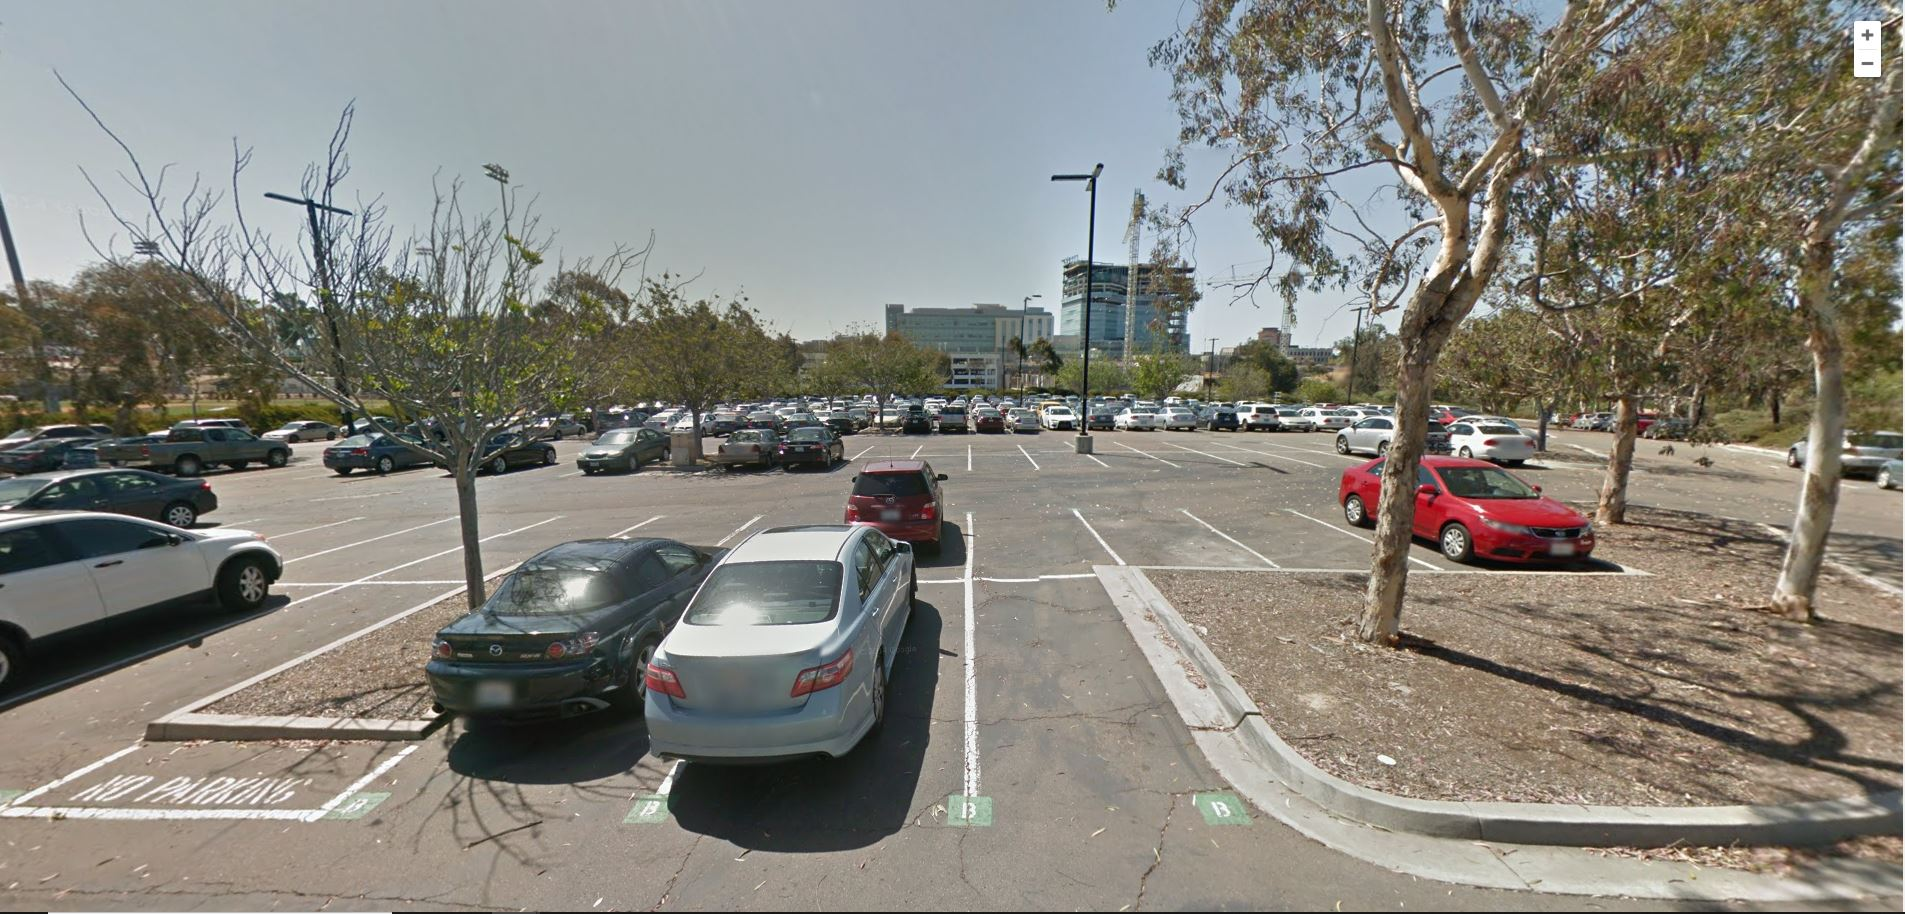car: (409, 523, 739, 744), (645, 525, 923, 762), (1, 504, 275, 670), (1338, 444, 1596, 571), (1, 450, 219, 549), (829, 459, 963, 553), (96, 406, 288, 469), (1785, 423, 1905, 491), (320, 416, 420, 480), (577, 414, 675, 476), (1328, 414, 1453, 456), (1453, 419, 1543, 466), (782, 418, 846, 473), (716, 419, 780, 467), (1154, 397, 1202, 438), (938, 400, 977, 438), (1113, 402, 1154, 434), (895, 402, 934, 434), (1001, 406, 1045, 434), (972, 407, 1010, 438), (1243, 400, 1279, 429), (1048, 405, 1086, 429)
